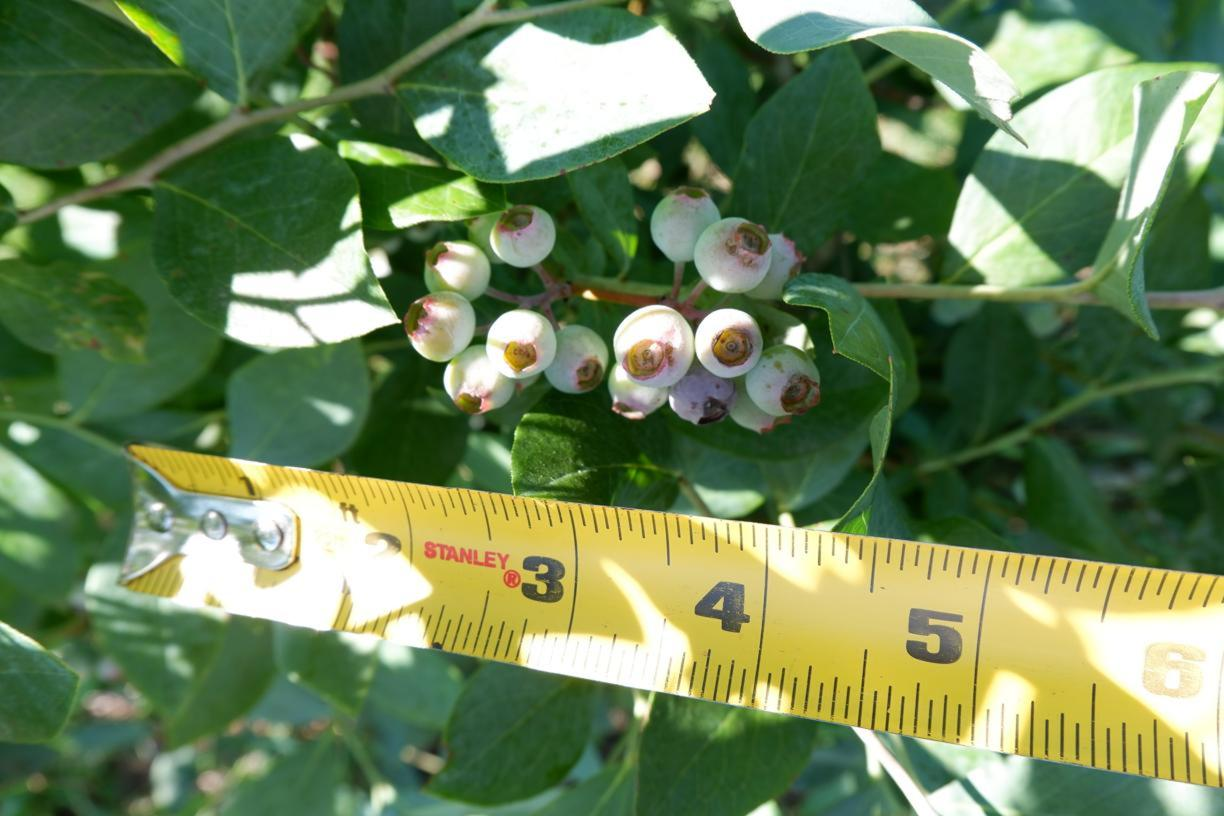Immature: (614, 305, 695, 389), (693, 217, 772, 294), (745, 344, 822, 416), (650, 186, 721, 260), (405, 292, 476, 362), (443, 346, 515, 415), (486, 309, 557, 378), (694, 309, 762, 378), (545, 325, 610, 393), (743, 232, 806, 301), (490, 204, 556, 269), (424, 240, 490, 301), (730, 378, 793, 435), (608, 362, 669, 420), (466, 211, 507, 263)
Mature: (669, 355, 737, 425)
